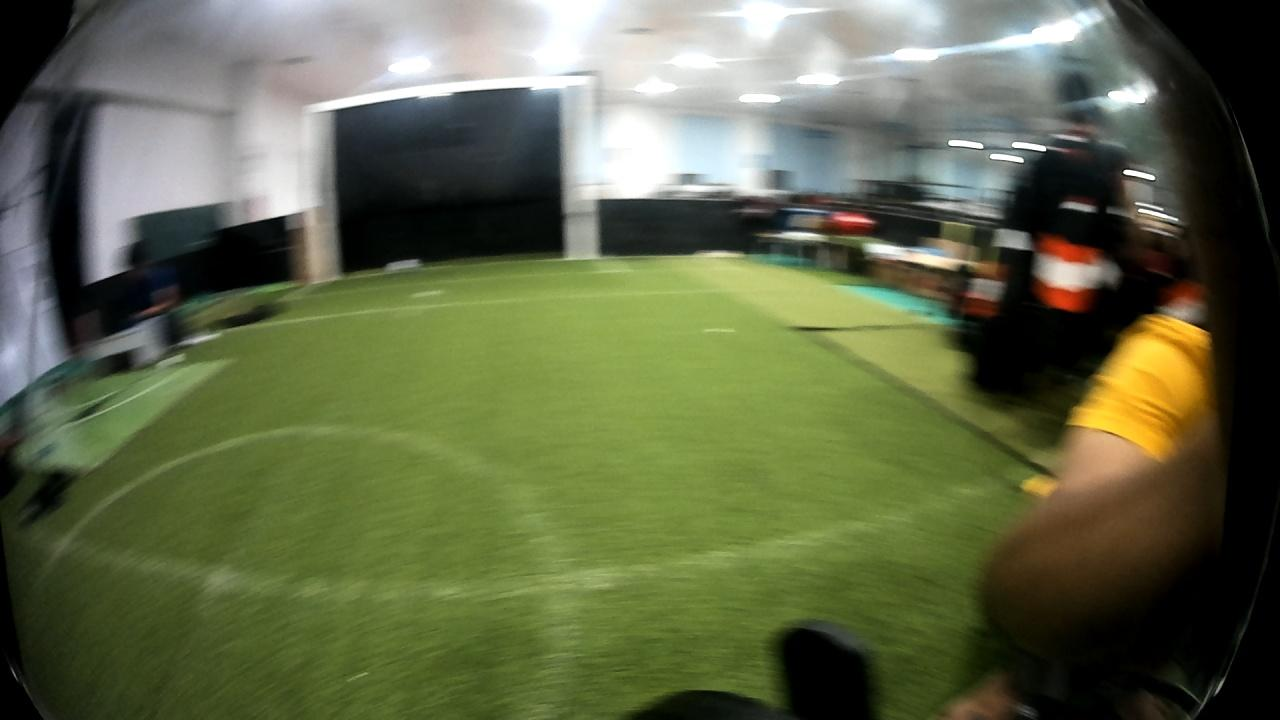ball: (380, 255, 424, 277)
